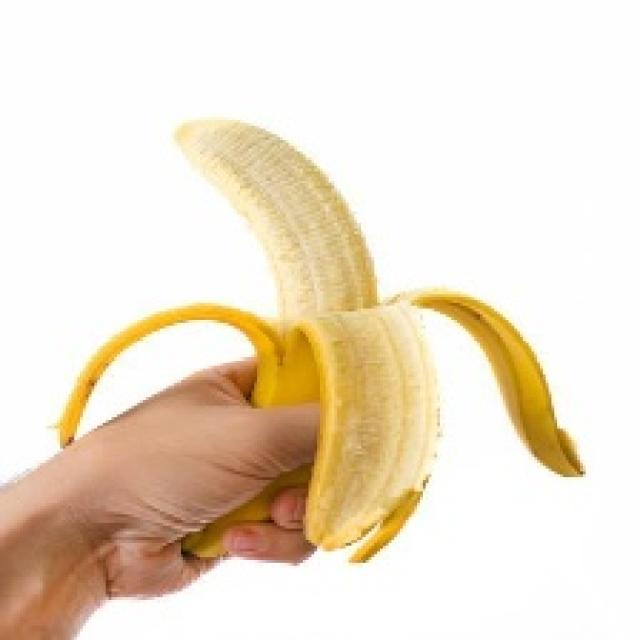Banana: (51, 114, 583, 566)
